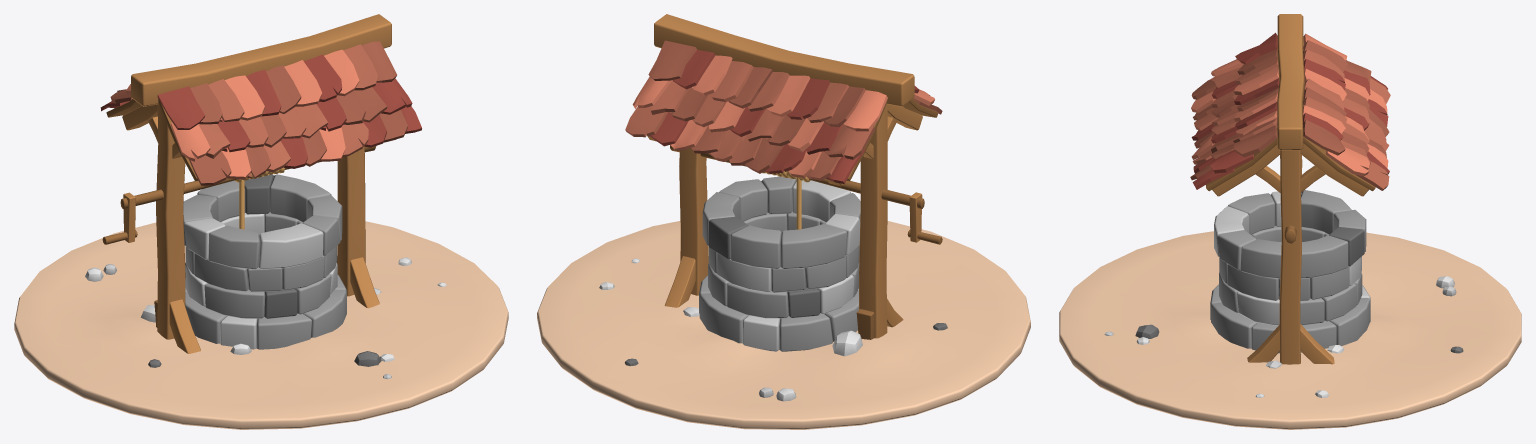
The model's file is homebase_well.fbx.
3 renders of one model, left to right at view 1: azimuth 30°, elevation 25°; view 2: azimuth 150°, elevation 25°; view 3: azimuth 270°, elevation 25°, orthographic. The views are drawn at different scales.
Parts seen in each view (by area): view 1: Ground, StoneBase, Tile, WoodenBase, Mechanism, Rocks; view 2: Ground, StoneBase, Tile, WoodenBase, Mechanism, Rocks; view 3: Ground, StoneBase, Tile, WoodenBase, Rocks.
Boxes of the visible parts, x1=… form: Ground: x1=14, y1=221, x2=508, y2=429; StoneBase: x1=183, y1=174, x2=346, y2=349; Tile: x1=100, y1=41, x2=421, y2=185; WoodenBase: x1=106, y1=14, x2=395, y2=353; Mechanism: x1=102, y1=146, x2=376, y2=244; Rocks: x1=85, y1=257, x2=446, y2=379; Ground: x1=537, y1=221, x2=1030, y2=429; StoneBase: x1=699, y1=176, x2=860, y2=351; Tile: x1=625, y1=40, x2=942, y2=183; WoodenBase: x1=647, y1=14, x2=938, y2=339; Mechanism: x1=670, y1=145, x2=942, y2=244; Rocks: x1=599, y1=258, x2=947, y2=401; Ground: x1=1059, y1=231, x2=1521, y2=429; StoneBase: x1=1210, y1=190, x2=1370, y2=353; Tile: x1=1190, y1=32, x2=1390, y2=190; WoodenBase: x1=1206, y1=14, x2=1375, y2=364; Rocks: x1=1104, y1=276, x2=1463, y2=397.
Size of the model in its own units: 309 by 193 by 307.
